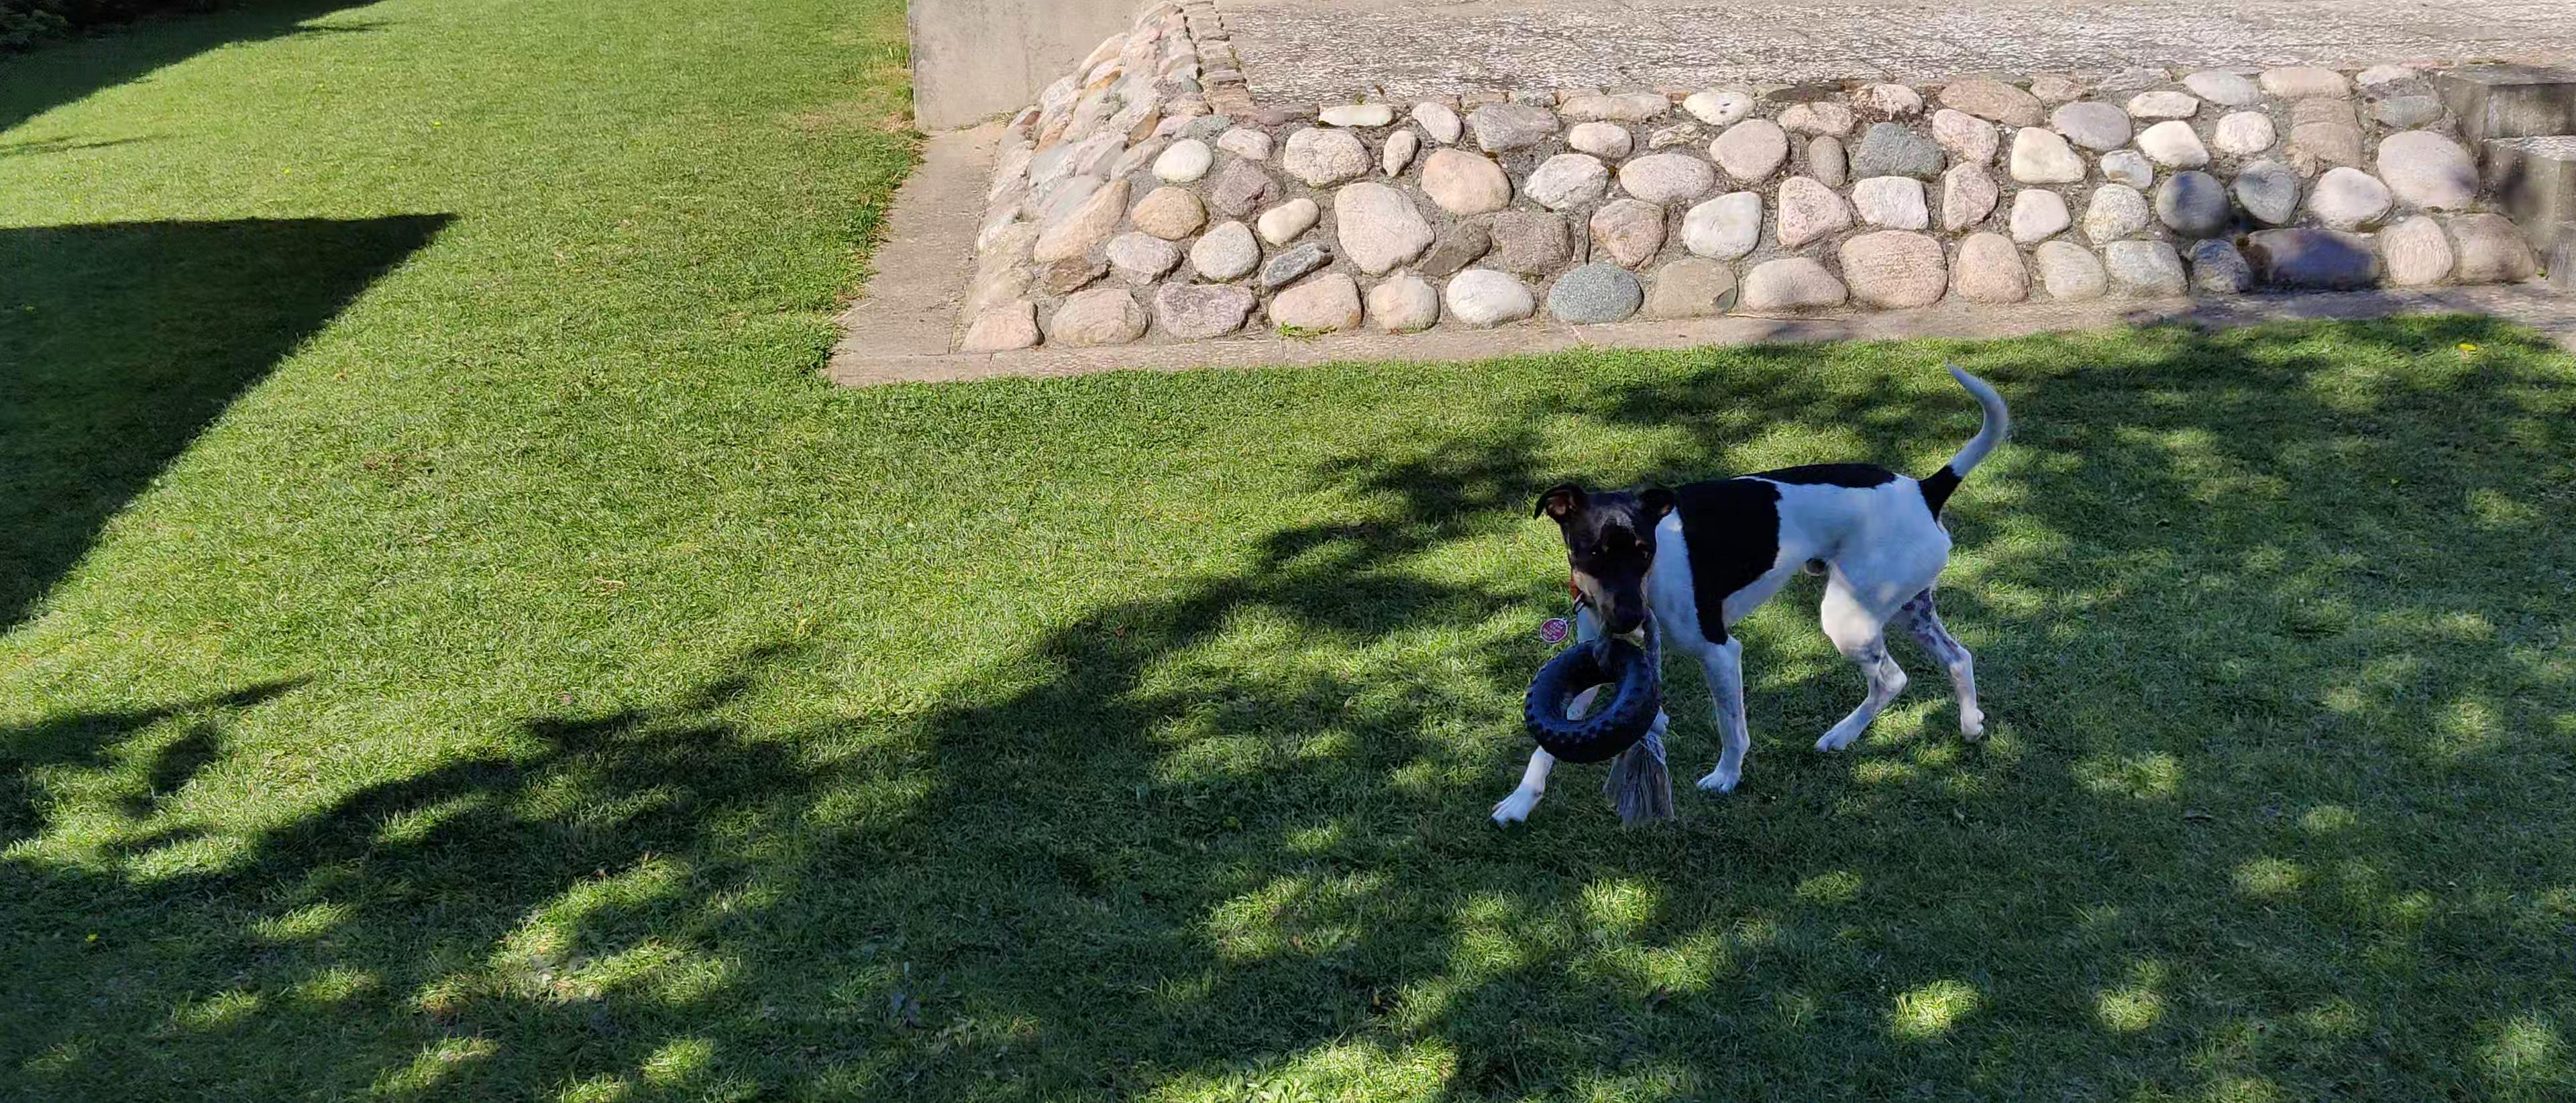Dog: (1472, 353, 2027, 840)
